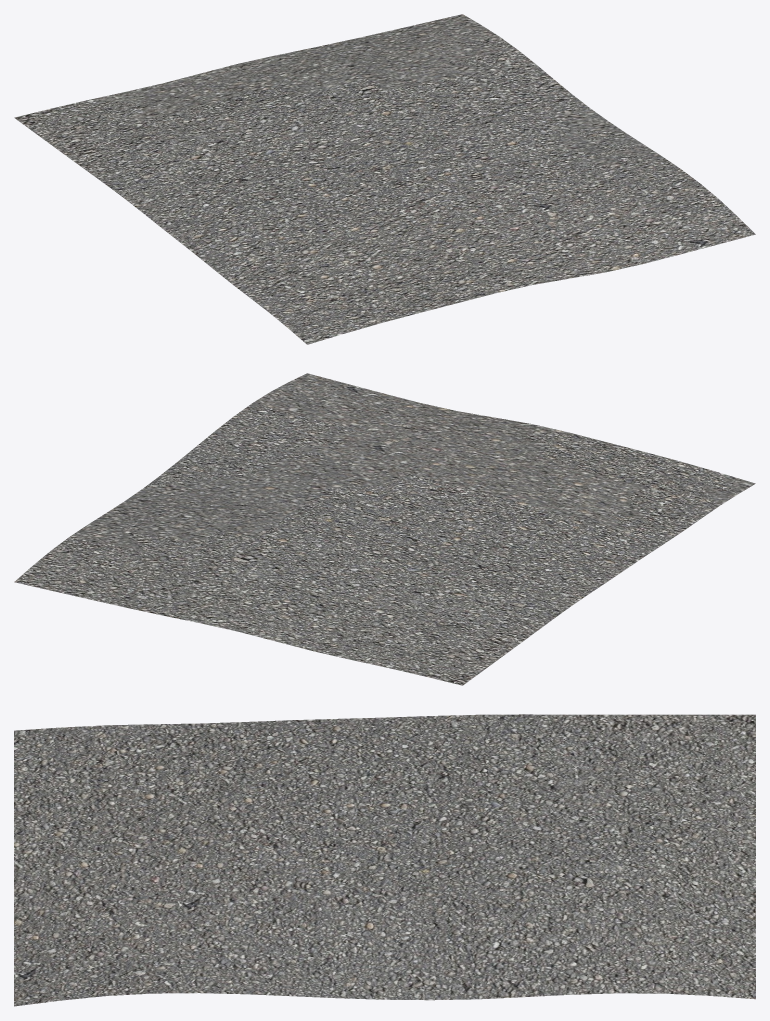
File: agriculture_world.dae
The picture shows the model from 3 angles, top to bottom: view 1: azimuth 30°, elevation 25°; view 2: azimuth 150°, elevation 25°; view 3: azimuth 270°, elevation 25°; orthographic projection. The views are drawn at different scales.
Parts seen in each view (by area): view 1: Ground; view 2: Ground; view 3: Ground.
Boxes of the visible parts, bbox=[...] form: Ground: bbox=[14, 14, 755, 344]; Ground: bbox=[14, 373, 755, 685]; Ground: bbox=[14, 714, 755, 1006].
Size of the model in its own units: 143 by 162 by 6.63.
Materials: 1 (1 with a texture image).
